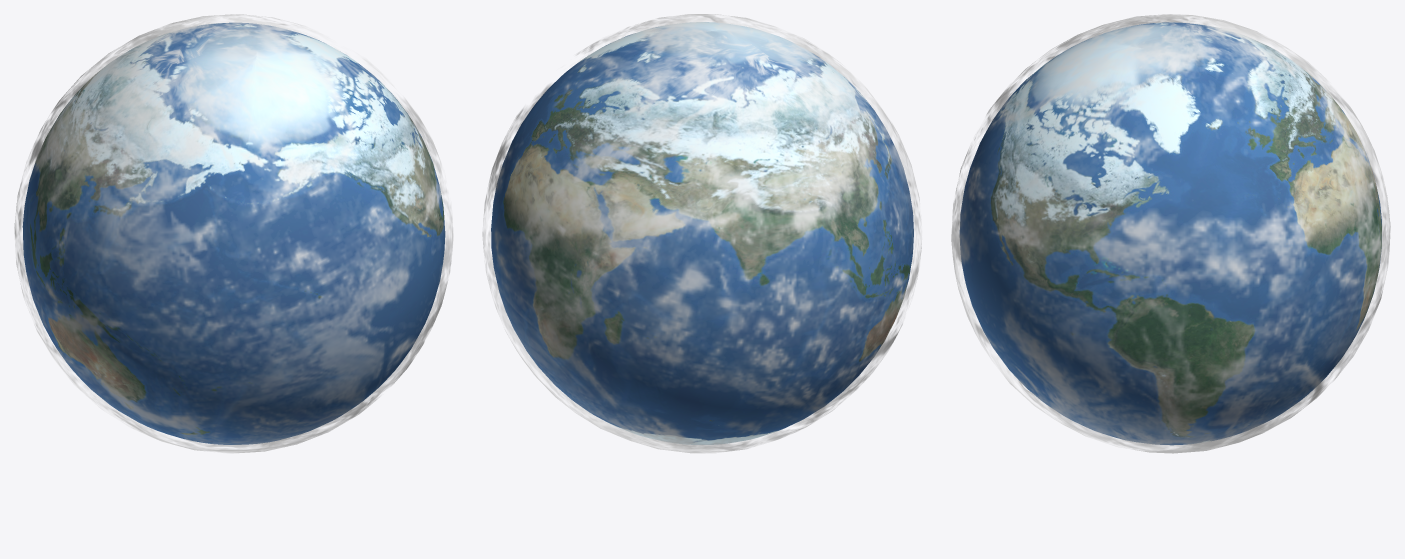
Rendered from Earth.glb.
The picture shows the model from 3 angles, left to right: view 1: azimuth 30°, elevation 25°; view 2: azimuth 150°, elevation 25°; view 3: azimuth 270°, elevation 25°; orthographic projection.
Visible parts, largest first — view 1: EARTH_0.001, EarthClouds.001; view 2: EARTH_0.001, EarthClouds.001; view 3: EARTH_0.001, EarthClouds.001.
Part boxes in pixels (left/top/right/bottom): EARTH_0.001: left=22, top=22, right=445, bottom=444; EarthClouds.001: left=14, top=14, right=453, bottom=453; EARTH_0.001: left=491, top=22, right=913, bottom=444; EarthClouds.001: left=482, top=14, right=921, bottom=453; EARTH_0.001: left=959, top=22, right=1381, bottom=445; EarthClouds.001: left=951, top=14, right=1390, bottom=453.
Bounding box in the file's own units: 1.88 × 2.41 × 1.88.
Materials: 2 (2 with a texture image).
